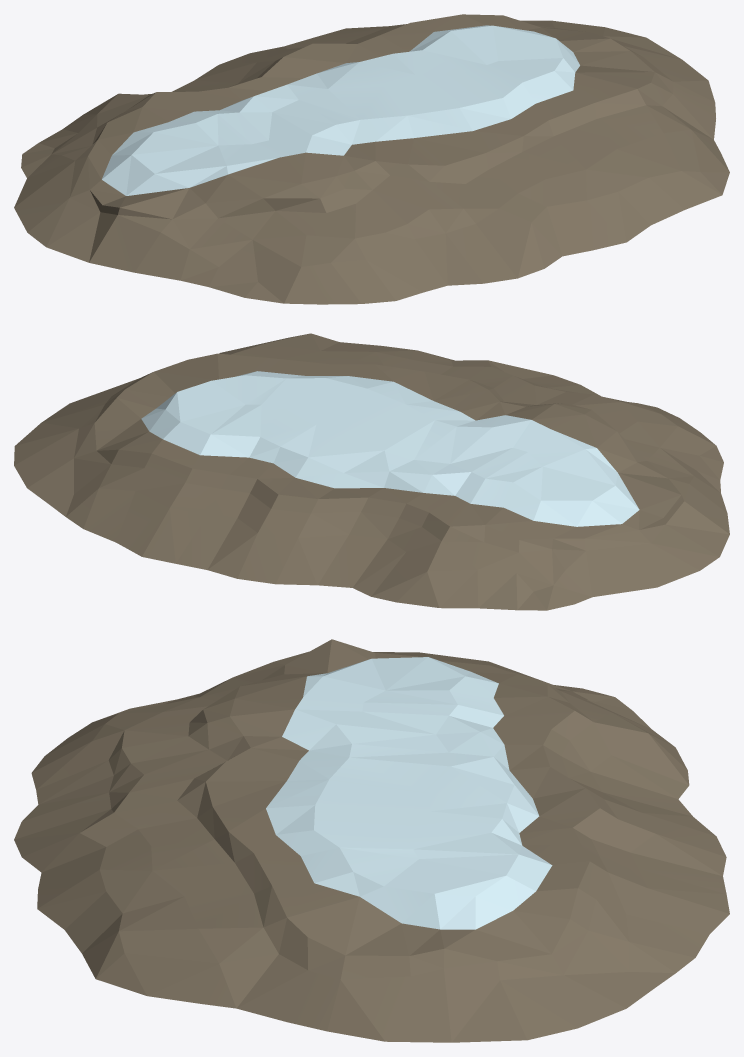
Rendered from Playa04.glb.
3 views of the same model, one above another, from view 1: azimuth 30°, elevation 25°; view 2: azimuth 150°, elevation 25°; view 3: azimuth 270°, elevation 25° (orthographic). The views are drawn at different scales.
Visible parts, largest first — view 1: SM_Env_Beach_04_Snow; view 2: SM_Env_Beach_04_Snow; view 3: SM_Env_Beach_04_Snow.
Part boxes in pixels (x1,y1,x2,y2): SM_Env_Beach_04_Snow: (14,14,729,304); SM_Env_Beach_04_Snow: (14,333,729,610); SM_Env_Beach_04_Snow: (14,639,729,1042).
Size of the model in its own units: 26.87 by 2.41 by 20.81.
1 material, 1 textured.
